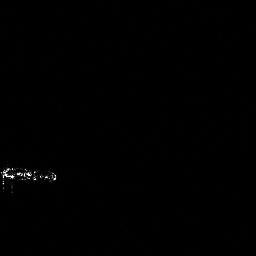ship: (1, 165, 57, 193)
